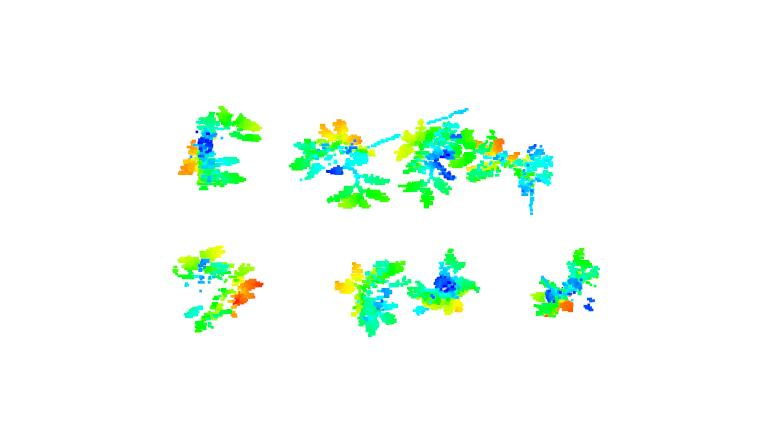chickpea: (295, 115, 393, 211), (172, 245, 265, 336), (180, 107, 266, 195), (398, 110, 471, 200), (331, 255, 407, 336), (529, 246, 603, 321), (469, 128, 552, 191), (406, 248, 480, 315)
